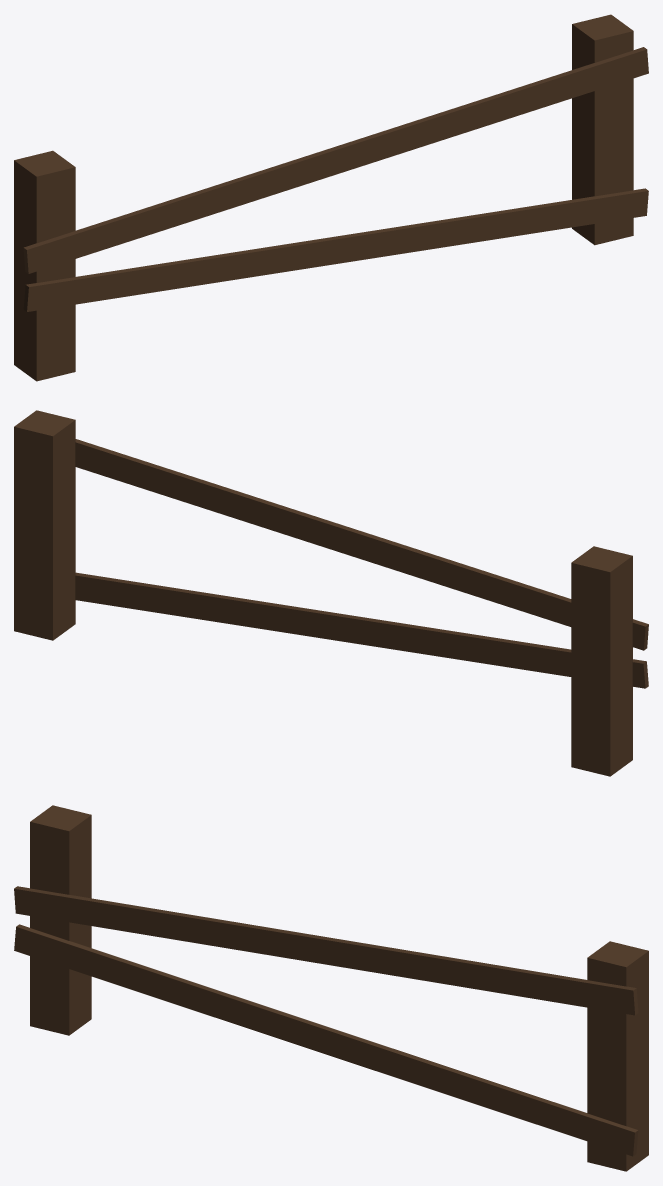
Rendered from Fence.fbx.
3 renders of one model, top to bottom at view 1: azimuth 30°, elevation 25°; view 2: azimuth 150°, elevation 25°; view 3: azimuth 330°, elevation 25°, orthographic.
Visible parts, largest first — view 1: Fence; view 2: Fence; view 3: Fence.
Boxes of the visible parts, x1,y1,x2,y2 form: Fence: (14, 14, 648, 381); Fence: (14, 410, 648, 776); Fence: (14, 805, 648, 1171).
Size of the model in its own units: 318 by 100 by 22.86.
